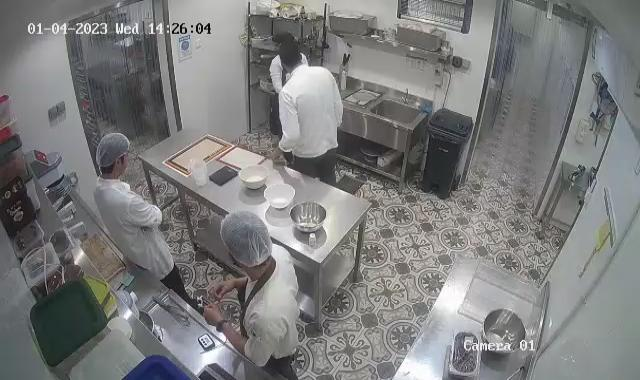hairnet: (220, 206, 274, 265), (94, 131, 131, 168)
no_hairnet: (276, 37, 304, 69)
